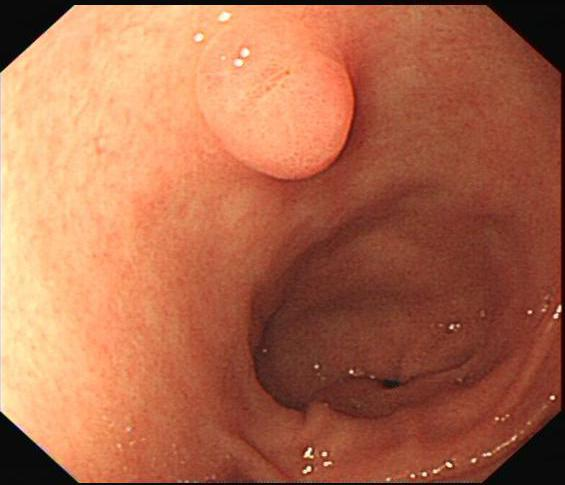Polyp: (199, 45, 356, 193)
